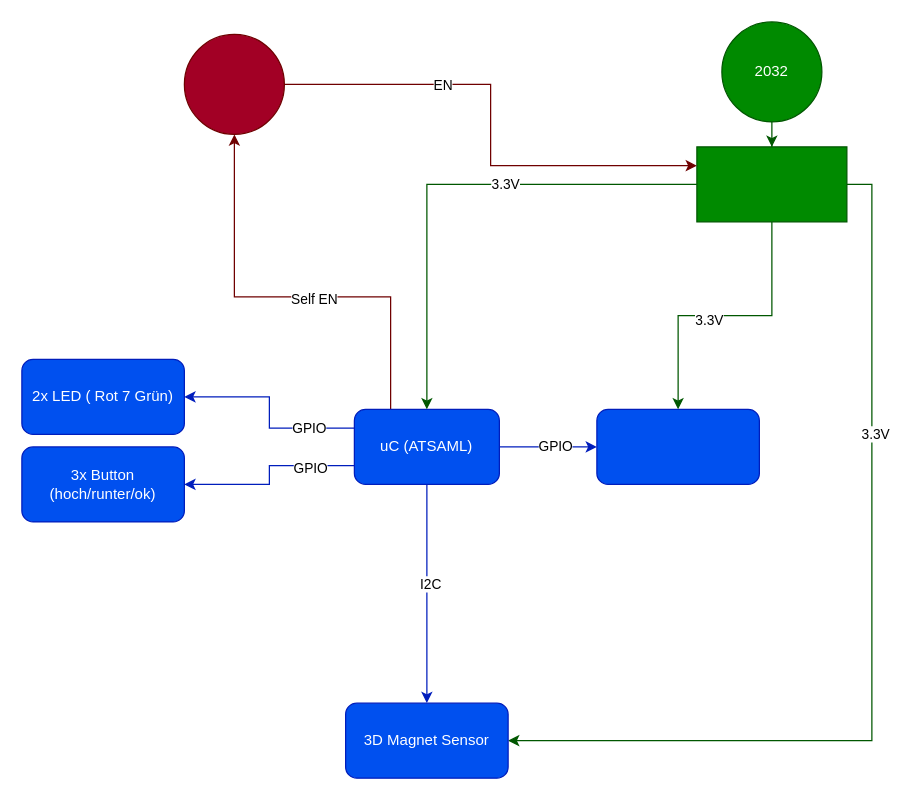
The diagram is 911 pixels wide and 800 high, and some of its shapes have lost their labels. Here are the shapes that lost their labels. From the top down, the centre of each, then its label:
At point 233,83: "Enable Button".
At point 771,184: "Boost Conveter".
At point 677,446: "Display".
